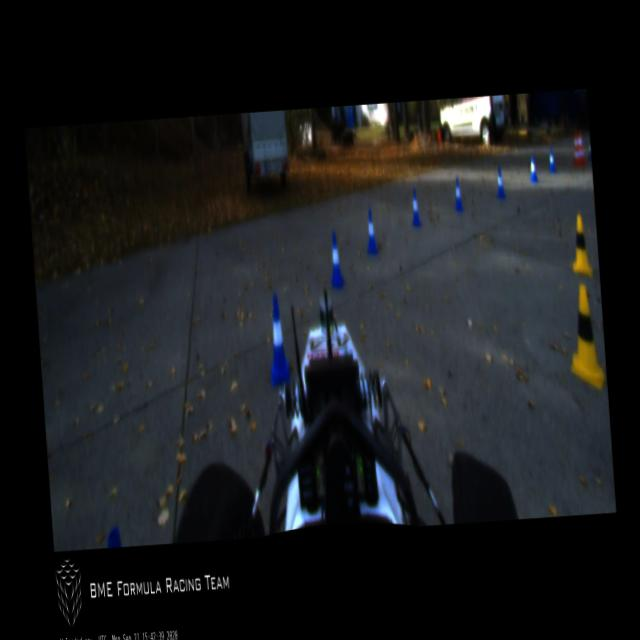blue_cone: (264, 292, 292, 388), (326, 231, 344, 290), (364, 208, 378, 255), (408, 188, 421, 226), (452, 177, 463, 212), (528, 155, 538, 183), (495, 168, 505, 196), (547, 146, 556, 172), (586, 138, 591, 162)
large_orange_cone: (571, 130, 581, 167), (576, 130, 586, 167)
yellow_cone: (566, 284, 604, 386), (569, 214, 591, 274)
